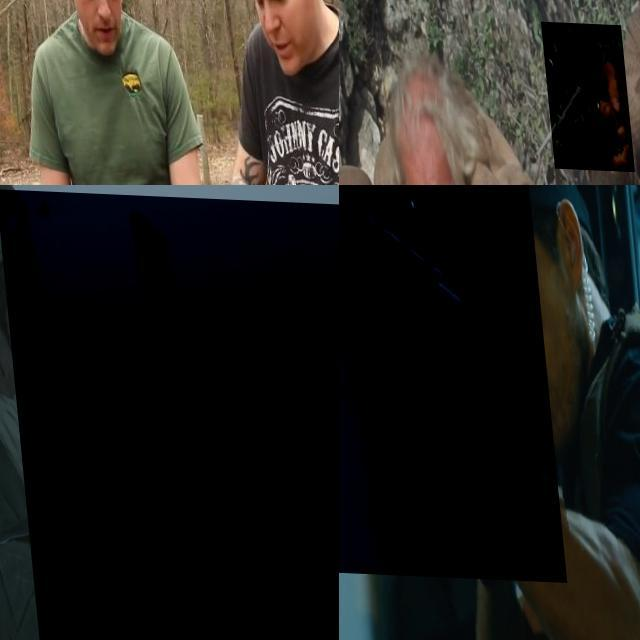gun-knife-thesis - v11 Yolov5 augmented: (0, 187, 339, 640), (339, 185, 556, 579), (538, 18, 628, 168)
